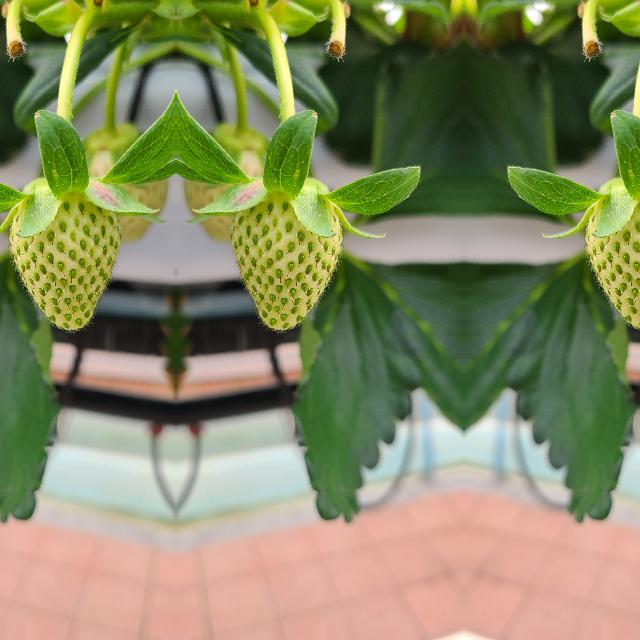Health_25: (228, 193, 342, 329), (8, 193, 122, 329), (584, 193, 640, 329)
